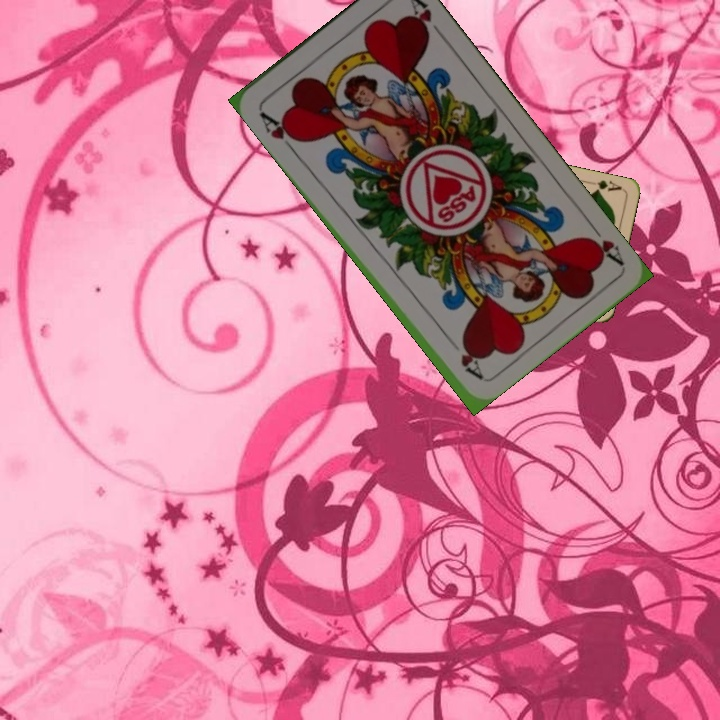GA: (584, 175, 624, 195)
HA: (580, 217, 626, 268), (255, 107, 303, 155)
